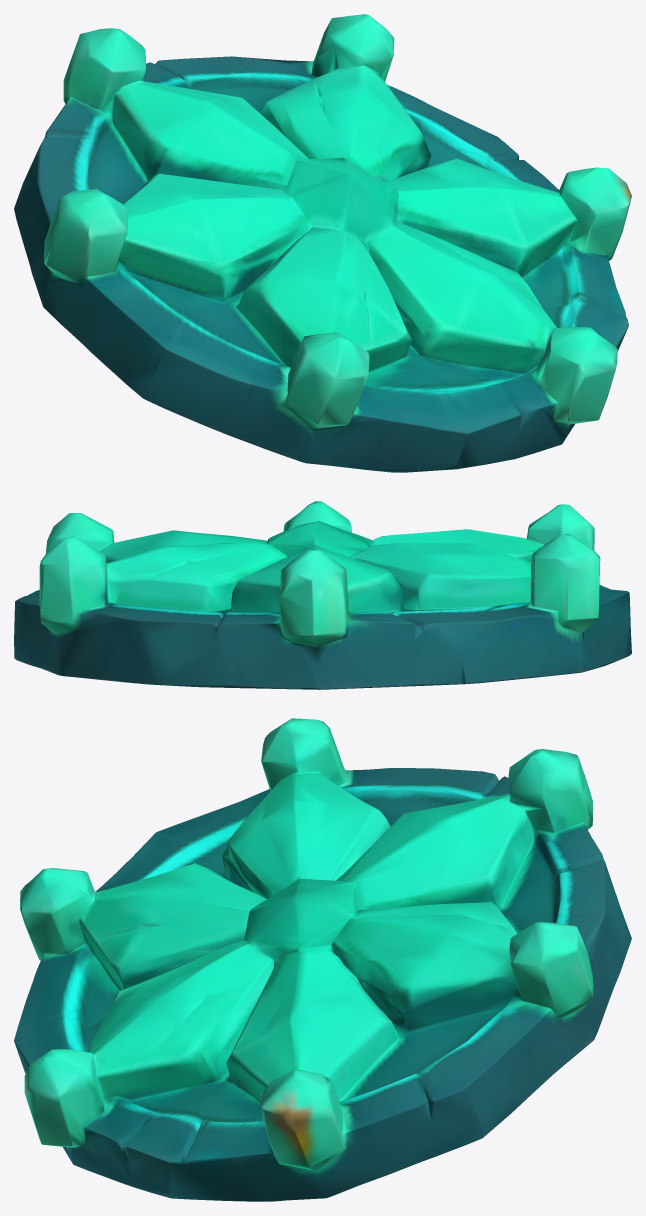
The model's file is 冰棱陷阱核心.glb.
The picture shows the model from 3 angles, top to bottom: view 1: azimuth 30°, elevation 25°; view 2: azimuth 150°, elevation 25°; view 3: azimuth 270°, elevation 25°; orthographic projection. The views are drawn at different scales.
Parts seen in each view (by area): view 1: 冰棱陷阱核心; view 2: 冰棱陷阱核心; view 3: 冰棱陷阱核心.
Part boxes in pixels (x1,y1,x2,y2): 冰棱陷阱核心: (14, 14, 631, 472); 冰棱陷阱核心: (14, 501, 631, 689); 冰棱陷阱核心: (14, 718, 631, 1201).
Bounding box in the file's own units: 0.2279 × 0.1135 × 0.2074.
Materials: 1 (1 with a texture image).
